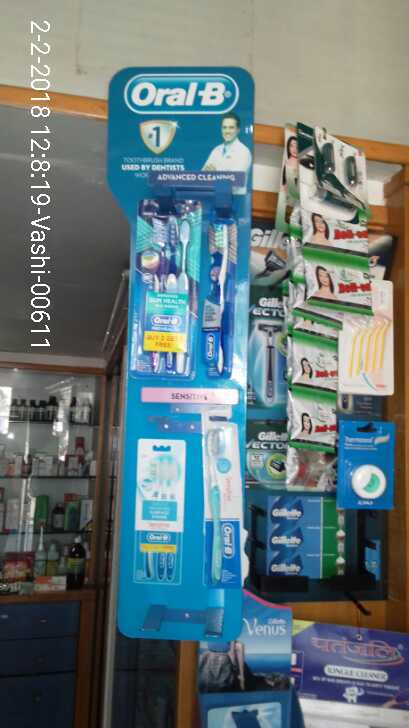oralb: (131, 201, 195, 379), (200, 413, 248, 593), (131, 438, 184, 590), (201, 223, 238, 383)
